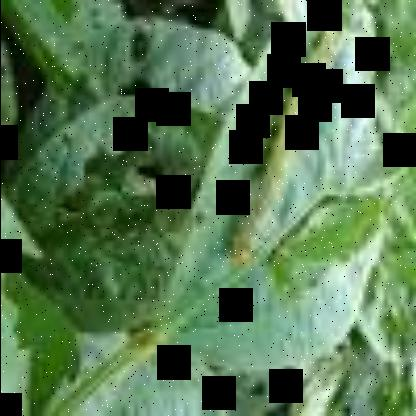agujero: (265, 188, 389, 308), (48, 134, 172, 216), (112, 77, 158, 101), (130, 30, 158, 66)
oruga: (240, 6, 334, 256)
